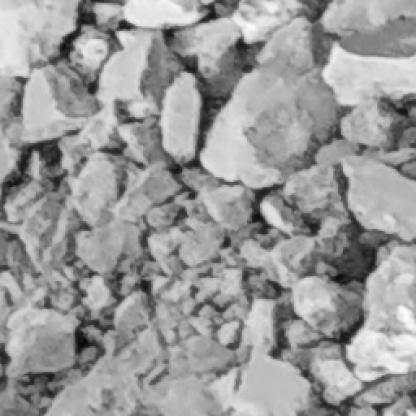cementitious_debris: (1, 76, 413, 413)
